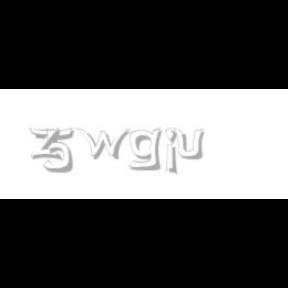5: (44, 128, 74, 174)
g: (128, 128, 165, 171)
i: (165, 128, 181, 176)
u: (174, 128, 208, 160)
w: (76, 128, 134, 160)
z: (29, 128, 65, 160)
